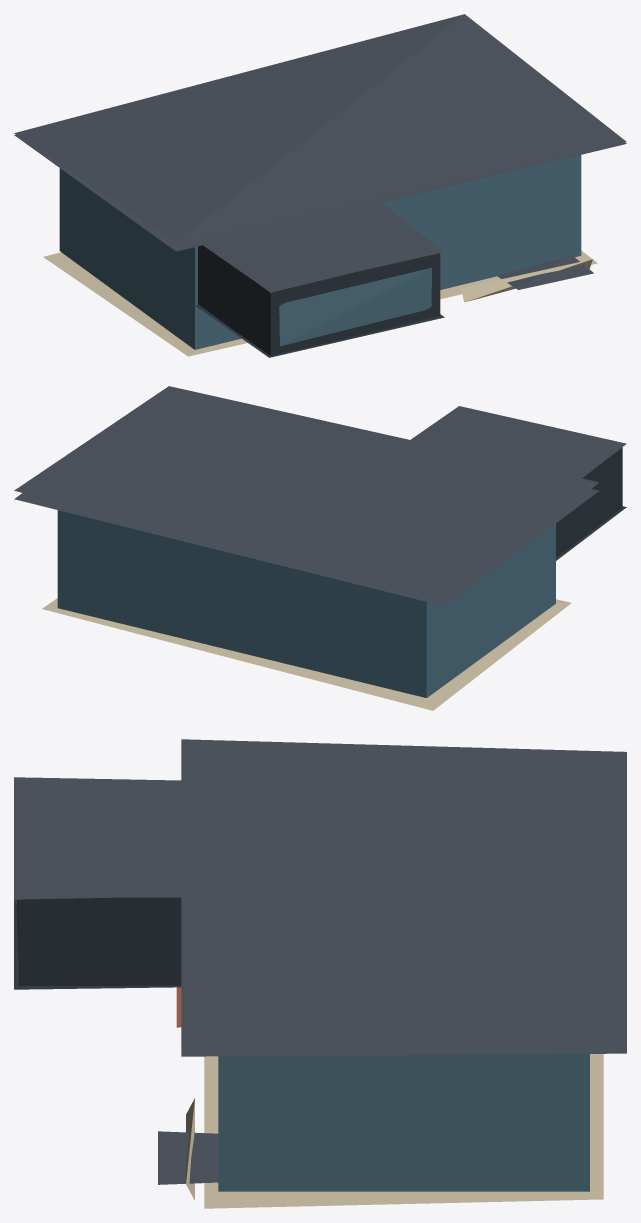
File: muziekgebouw-bimhuis.lod2.glb
3 renders of one model, top to bottom at view 1: azimuth 30°, elevation 25°; view 2: azimuth 150°, elevation 25°; view 3: azimuth 270°, elevation 25°, orthographic. The views are drawn at different scales.
Parts seen in each view (by area): view 1: lod2; view 2: lod2; view 3: lod2.
Part boxes in pixels (x1=…): lod2: x1=14, y1=14, x2=626, y2=357; lod2: x1=14, y1=386, x2=626, y2=710; lod2: x1=14, y1=739, x2=626, y2=1208.
Size of the model in its own units: 77 by 21.5 by 66.
